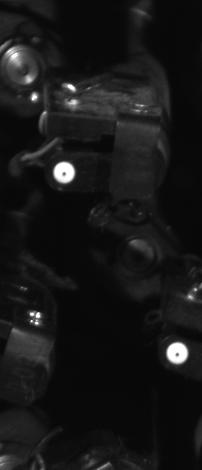fiber: (162, 335, 194, 371), (48, 159, 81, 192)
